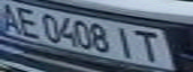0: (36, 11, 63, 43), (72, 18, 93, 51)
4: (54, 15, 75, 46)
8: (90, 21, 112, 54)
A: (0, 0, 27, 34)
E: (12, 6, 42, 37)
I: (112, 25, 139, 60)
T: (130, 27, 172, 64)
